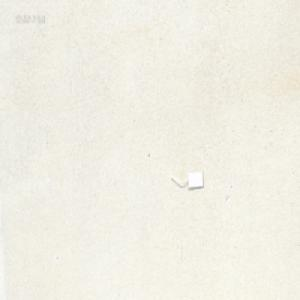LuggageTag: (169, 169, 203, 189)
